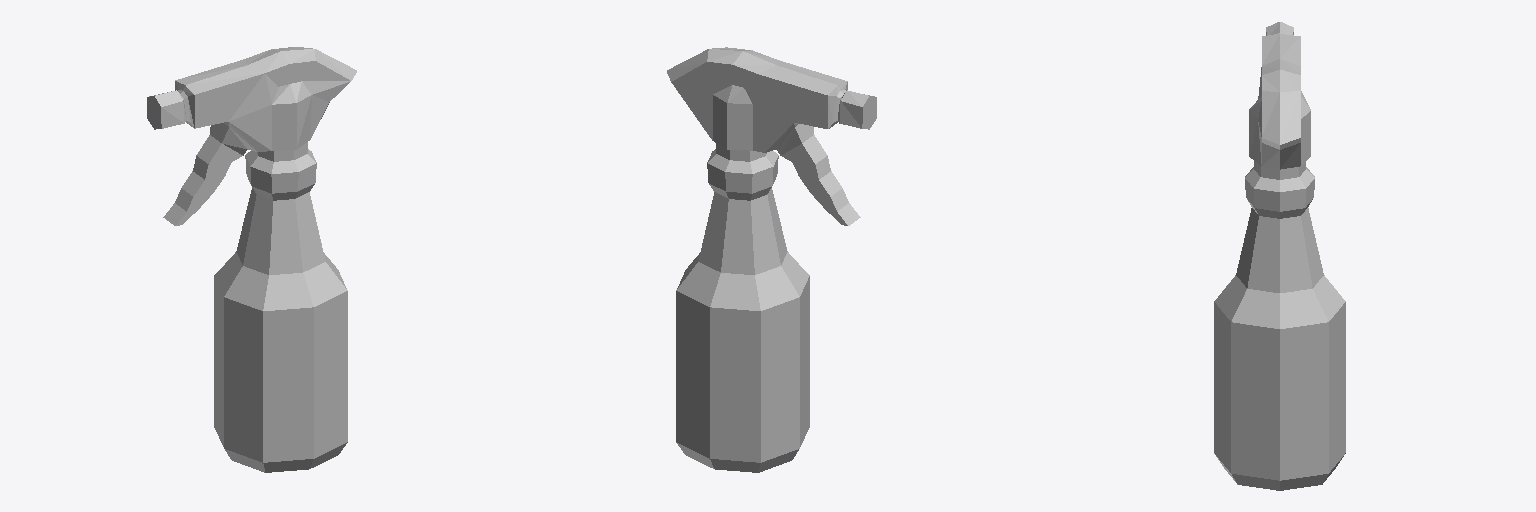
File: SprayBottle.obj
3 renders of one model, left to right at view 1: azimuth 30°, elevation 25°; view 2: azimuth 150°, elevation 25°; view 3: azimuth 270°, elevation 25°, orthographic.
Visible parts, largest first — view 1: SprayBottleMesh; view 2: SprayBottleMesh; view 3: SprayBottleMesh.
Boxes of the visible parts, <box> form: SprayBottleMesh: <box>147,47,356,472</box>; SprayBottleMesh: <box>667,47,876,472</box>; SprayBottleMesh: <box>1214,22,1345,490</box>.
Bounding box in the file's own units: 2.62 × 4.9 × 1.47.